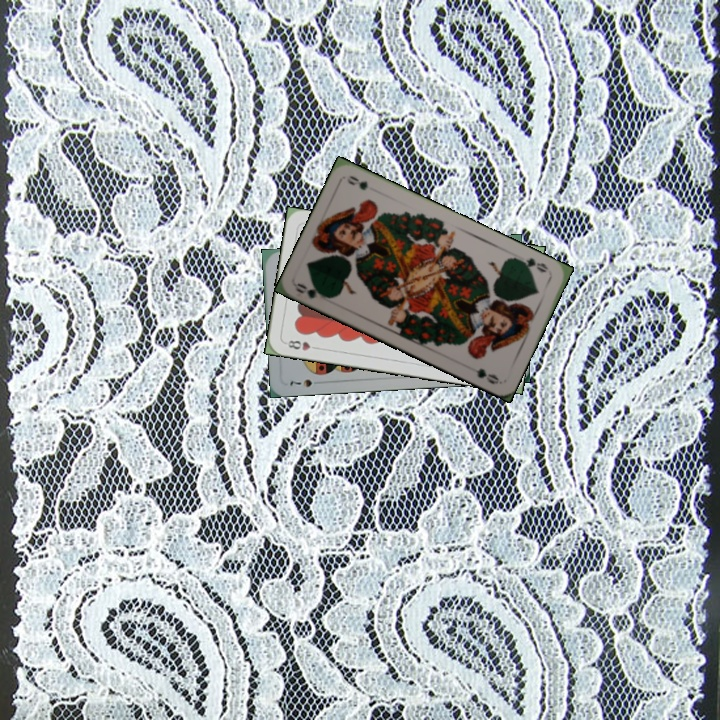GO: (292, 279, 332, 302), (514, 253, 551, 275)
H8: (281, 336, 322, 353)
S7: (286, 375, 315, 389)
